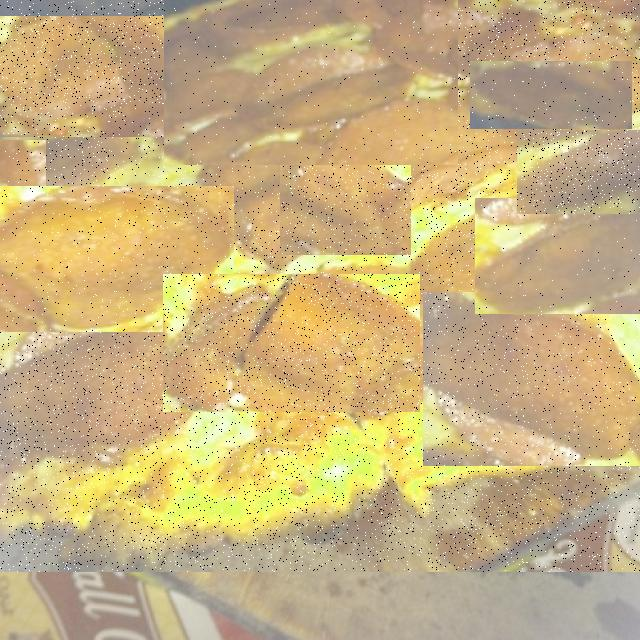Pepperoni: (164, 0, 458, 165), (423, 292, 640, 466), (164, 274, 422, 412), (0, 186, 234, 332), (120, 104, 312, 226), (0, 16, 175, 137), (475, 198, 640, 314), (280, 144, 411, 255), (470, 61, 632, 129), (517, 130, 640, 214), (0, 140, 46, 248)
Pizza: (0, 0, 640, 572)
